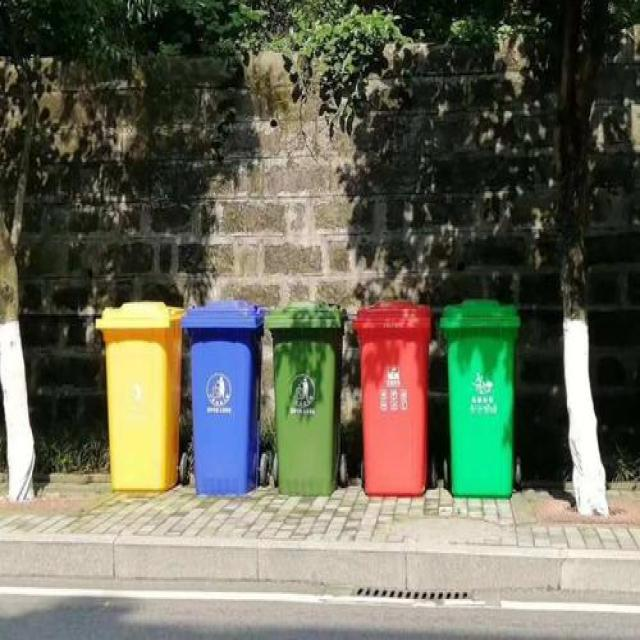garbage_bin: (93, 300, 183, 488), (436, 297, 520, 498), (265, 300, 343, 495), (351, 300, 429, 495), (187, 300, 264, 492)
